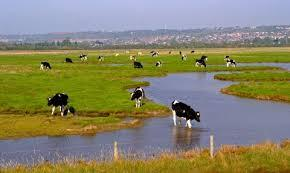cow: (171, 99, 201, 129), (48, 93, 70, 116), (131, 87, 146, 108), (41, 61, 52, 71), (195, 59, 208, 67), (225, 59, 236, 67), (134, 61, 144, 69), (80, 54, 88, 61), (156, 60, 161, 68)
